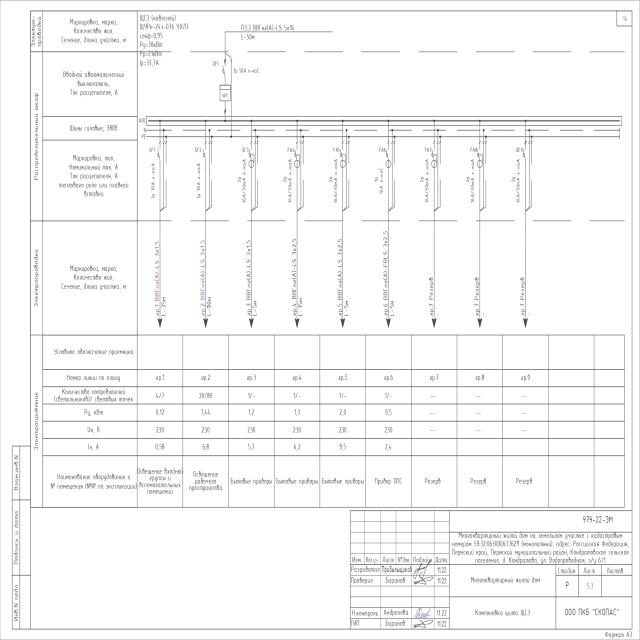-: (139, 14, 190, 31), (235, 157, 246, 204), (281, 158, 292, 205), (328, 157, 338, 204), (466, 157, 476, 204), (420, 158, 430, 205), (511, 158, 521, 205), (374, 166, 384, 196), (150, 162, 157, 200), (233, 66, 261, 75), (196, 160, 202, 200)
QF: (156, 145, 161, 161), (202, 146, 207, 161), (522, 147, 527, 162), (222, 64, 226, 78)
QW: (385, 146, 392, 168), (248, 146, 255, 168), (339, 146, 346, 168), (477, 147, 484, 169), (431, 148, 437, 170), (294, 146, 300, 168)
WH: (219, 84, 231, 102)
